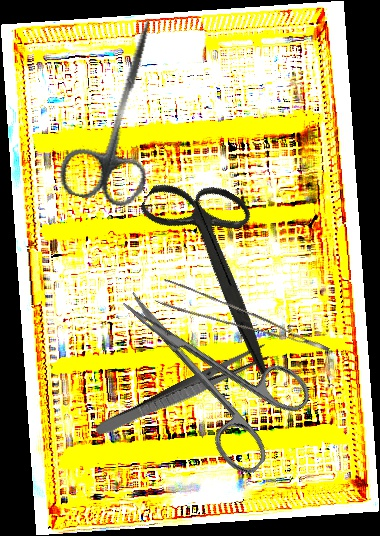Dressing Forceps: (93, 341, 272, 442)
Iris Scissors: (98, 155, 339, 379), (91, 254, 324, 481), (54, 6, 188, 213)
Tissue Forceps: (154, 269, 330, 380)
